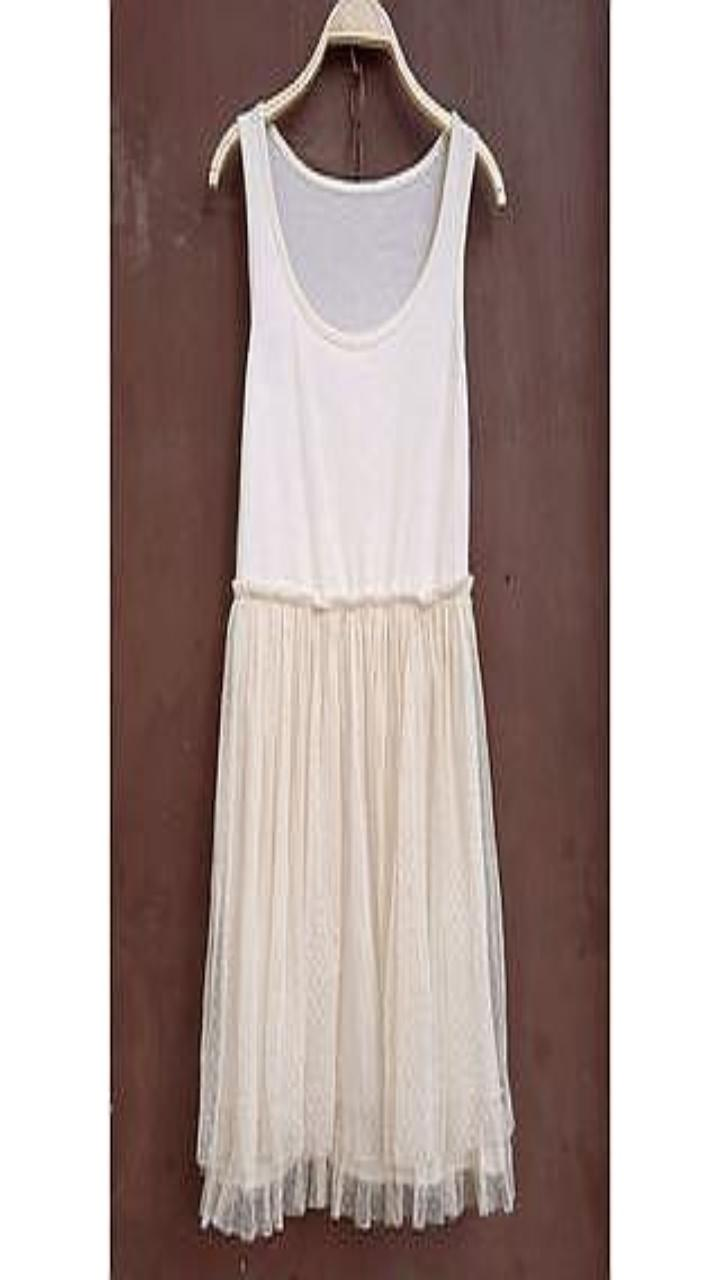Dresses: (197, 104, 513, 1238)
